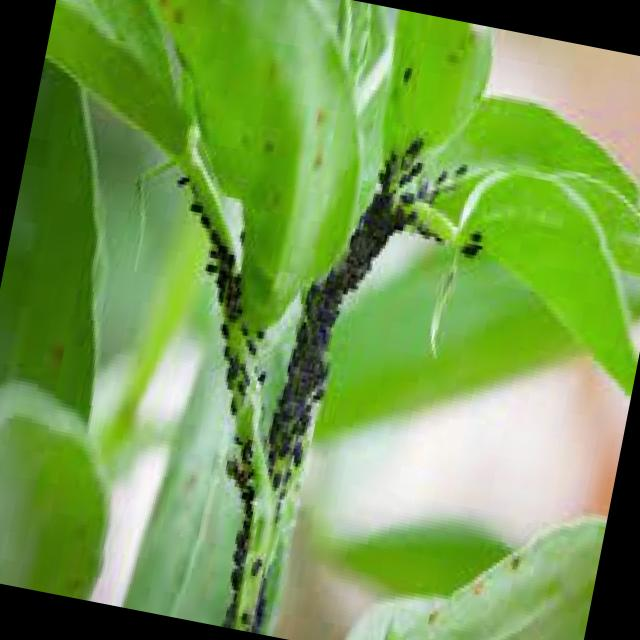aphid: (391, 176, 426, 213), (246, 312, 276, 348), (310, 296, 340, 332), (454, 231, 484, 267), (285, 431, 311, 472), (400, 128, 429, 164), (319, 252, 348, 286), (446, 148, 474, 183), (212, 334, 242, 366), (228, 212, 252, 250), (288, 313, 312, 351), (244, 546, 267, 584), (210, 312, 237, 343), (264, 462, 288, 496), (428, 159, 454, 190), (225, 422, 251, 453), (224, 560, 248, 592), (192, 202, 216, 233), (396, 56, 420, 87), (182, 190, 206, 220), (226, 540, 250, 570), (233, 602, 258, 630), (222, 389, 244, 420), (248, 358, 270, 389), (199, 252, 222, 280), (238, 478, 260, 505), (235, 314, 256, 341), (428, 222, 448, 250), (172, 166, 194, 190), (308, 378, 328, 404), (464, 222, 484, 246), (240, 461, 258, 484)
